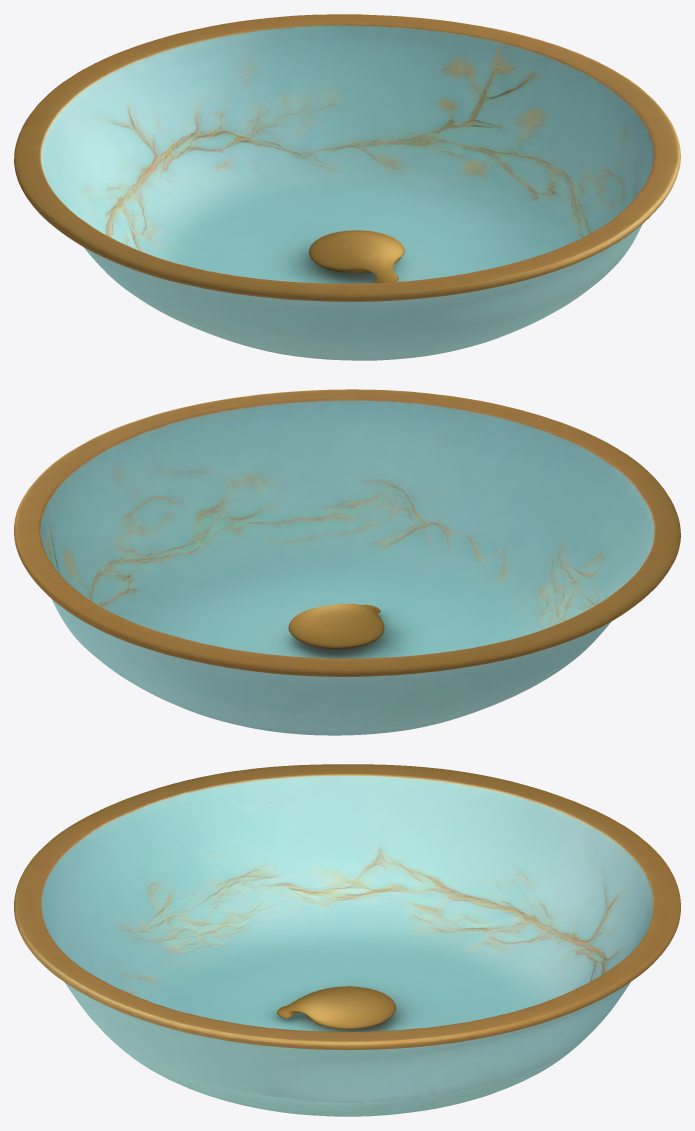
The model's file is basin.glb.
3 views of the same model, one above another, from view 1: azimuth 30°, elevation 25°; view 2: azimuth 150°, elevation 25°; view 3: azimuth 270°, elevation 25° (orthographic).
Parts seen in each view (by area): view 1: model; view 2: model; view 3: model.
Boxes of the visible parts, x1=… form: model: x1=14, y1=14, x2=680, y2=360; model: x1=14, y1=389, x2=680, y2=735; model: x1=14, y1=764, x2=680, y2=1116.
Size of the model in its own units: 1.89 by 0.4079 by 1.9.
Materials: 1 (1 with a texture image).
